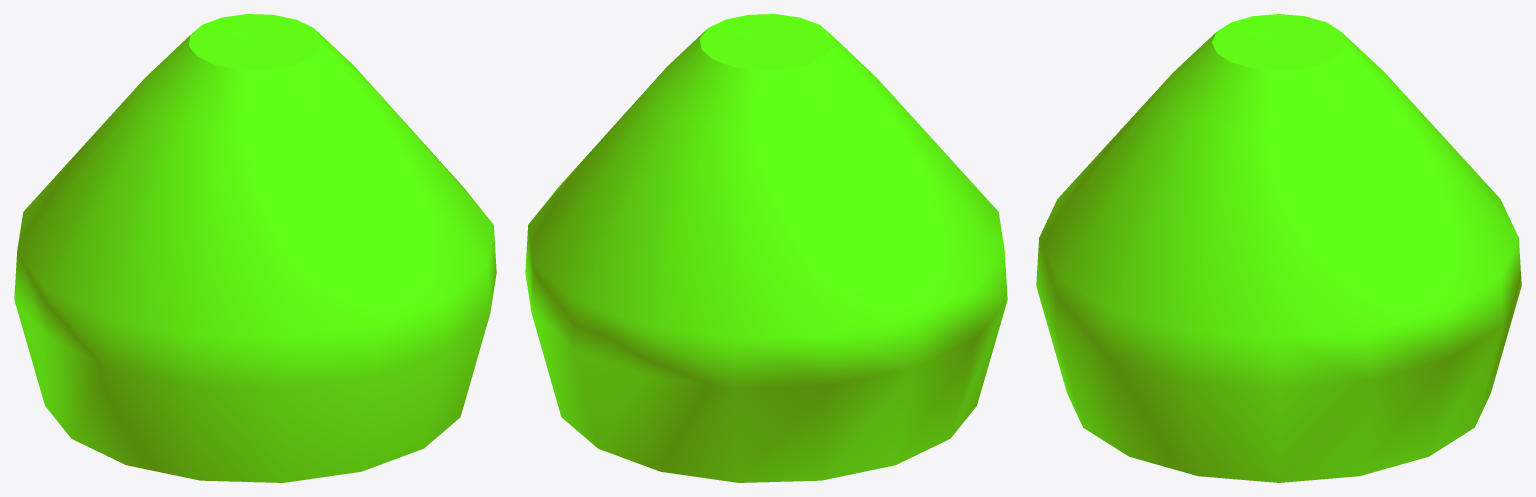
The model's file is stree.fbx.
3 renders of one model, left to right at view 1: azimuth 30°, elevation 25°; view 2: azimuth 150°, elevation 25°; view 3: azimuth 270°, elevation 25°, orthographic.
Parts seen in each view (by area): view 1: stree; view 2: stree; view 3: stree.
Boxes of the visible parts, <box> form: stree: <box>14,14,496,482</box>; stree: <box>525,14,1007,482</box>; stree: <box>1036,14,1521,482</box>.
Bounding box in the file's own units: 31.42 × 25.07 × 31.42.
